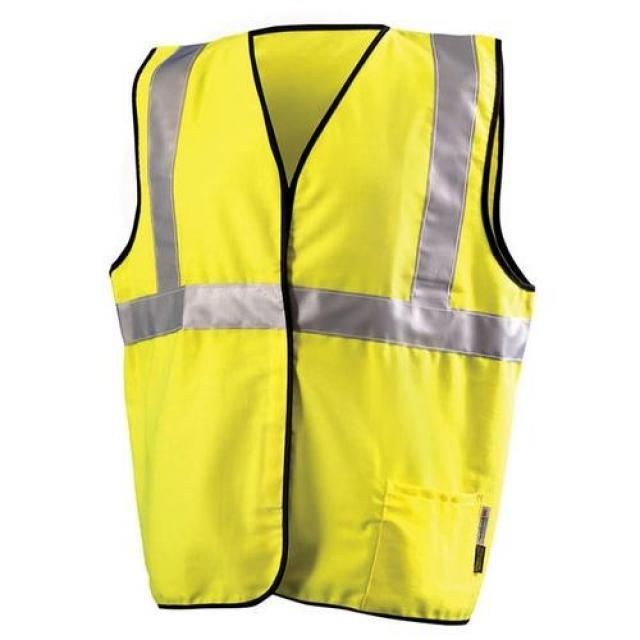construction-vest: (109, 23, 528, 624)
